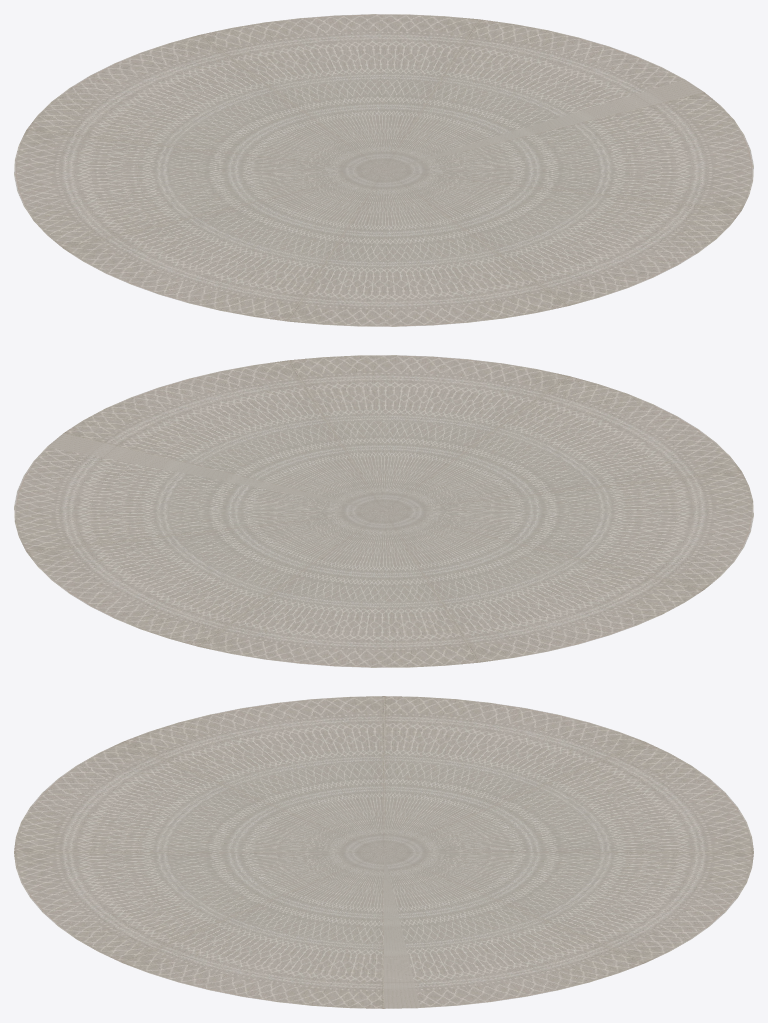
File: rug_round.glb
3 views of the same model, one above another, from view 1: azimuth 30°, elevation 25°; view 2: azimuth 150°, elevation 25°; view 3: azimuth 270°, elevation 25° (orthographic).
Visible parts, largest first — view 1: RoundRug; view 2: RoundRug; view 3: RoundRug.
Boxes of the visible parts, bbox=[...] form: RoundRug: bbox=[14, 14, 753, 326]; RoundRug: bbox=[14, 355, 753, 667]; RoundRug: bbox=[14, 696, 753, 1008].
Bounding box in the file's own units: 2 × 0 × 2.
Materials: 1 (1 with a texture image).
